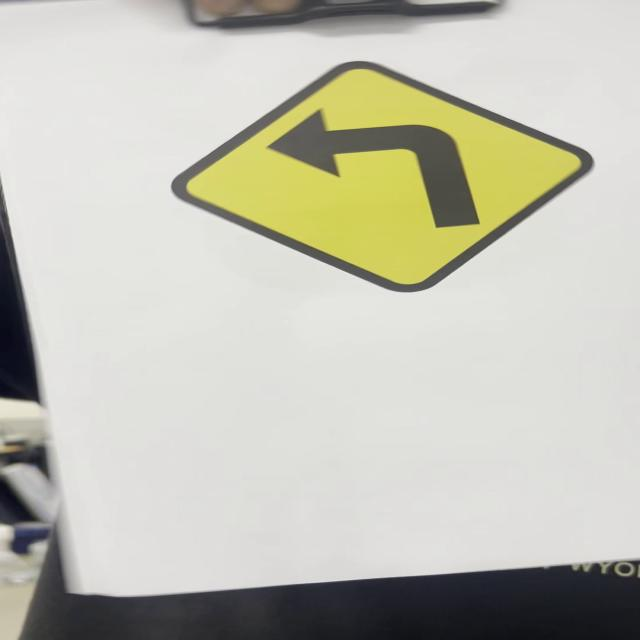left: (169, 63, 589, 296)
